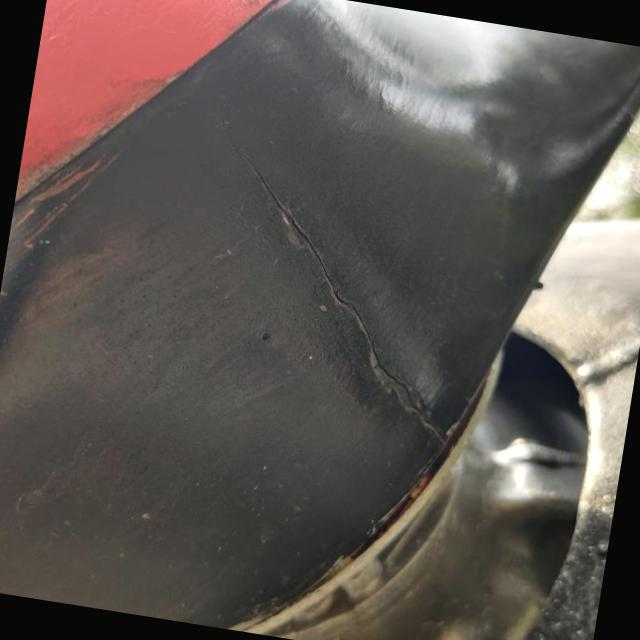crack: (165, 133, 495, 456)
